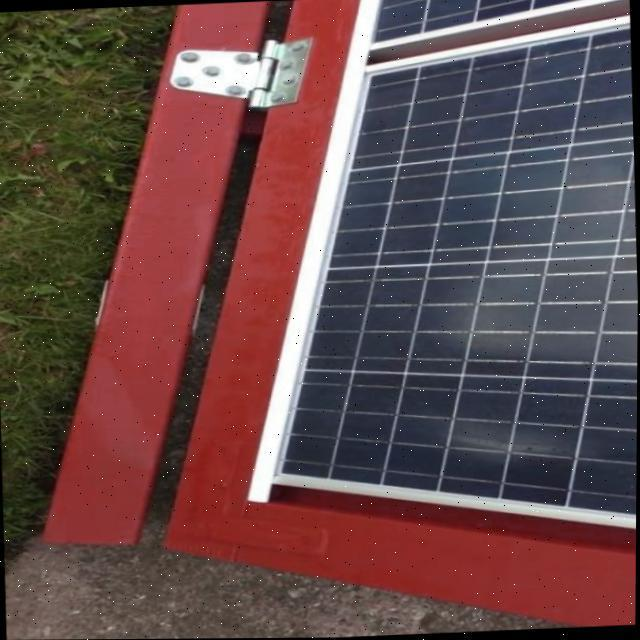Normal Solar Panel: (239, 0, 640, 542)
